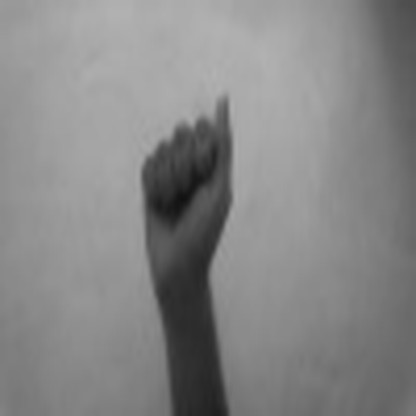a: (130, 77, 246, 277)
